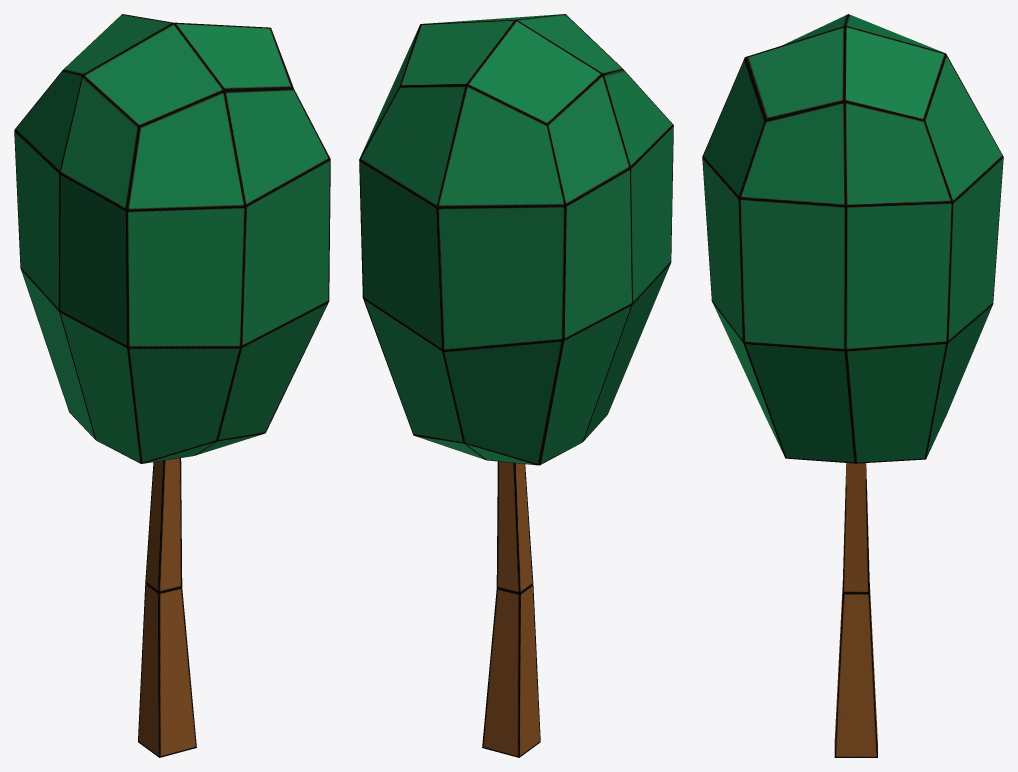
File: Smalltree1.fbx
The picture shows the model from 3 angles, left to right: view 1: azimuth 30°, elevation 25°; view 2: azimuth 150°, elevation 25°; view 3: azimuth 270°, elevation 25°; orthographic projection.
Parts seen in each view (by area): view 1: Smalltree1; view 2: Smalltree1; view 3: Smalltree1.
Part boxes in pixels (<box>): Smalltree1: <box>14,14,330,757</box>; Smalltree1: <box>359,14,673,757</box>; Smalltree1: <box>702,14,1003,757</box>.
Bounding box in the file's own units: 80.56 × 239 × 90.
Materials: 1 (1 with a texture image).
